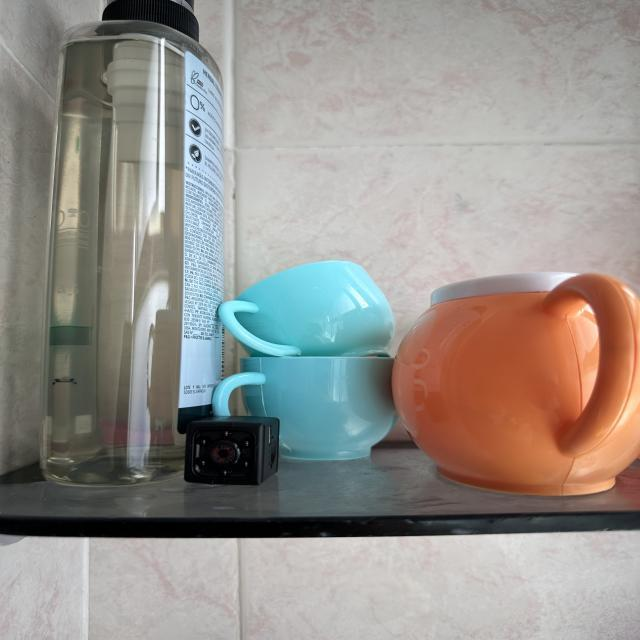hidden camera: (208, 441, 242, 468)
